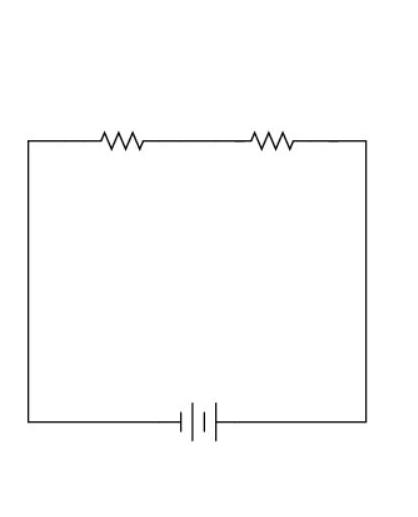resistor: (225, 111, 313, 163), (70, 113, 152, 155)
